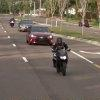Motorcycle: (46, 37, 74, 78)
